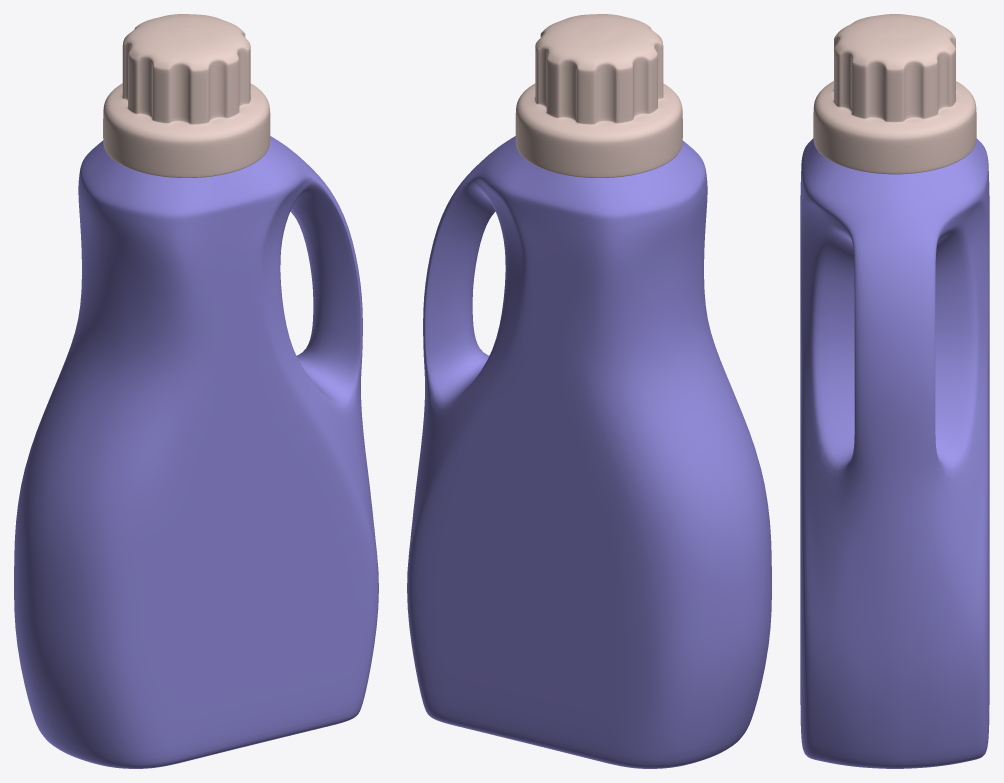
File: Bleach.fbx
The picture shows the model from 3 angles, left to right: view 1: azimuth 30°, elevation 25°; view 2: azimuth 150°, elevation 25°; view 3: azimuth 270°, elevation 25°; orthographic projection. The views are drawn at different scales.
Visible parts, largest first — view 1: Detergent Bottle.002, Detergent Bottle.001; view 2: Detergent Bottle.002, Detergent Bottle.001; view 3: Detergent Bottle.002, Detergent Bottle.001.
Part boxes in pixels (x1=…): Detergent Bottle.002: x1=14, y1=136, x2=378, y2=768; Detergent Bottle.001: x1=103, y1=14, x2=270, y2=177; Detergent Bottle.002: x1=407, y1=136, x2=771, y2=768; Detergent Bottle.001: x1=515, y1=14, x2=682, y2=177; Detergent Bottle.002: x1=800, y1=138, x2=989, y2=768; Detergent Bottle.001: x1=813, y1=14, x2=976, y2=174.
Size of the model in its own units: 11.35 by 22.96 by 5.86.
